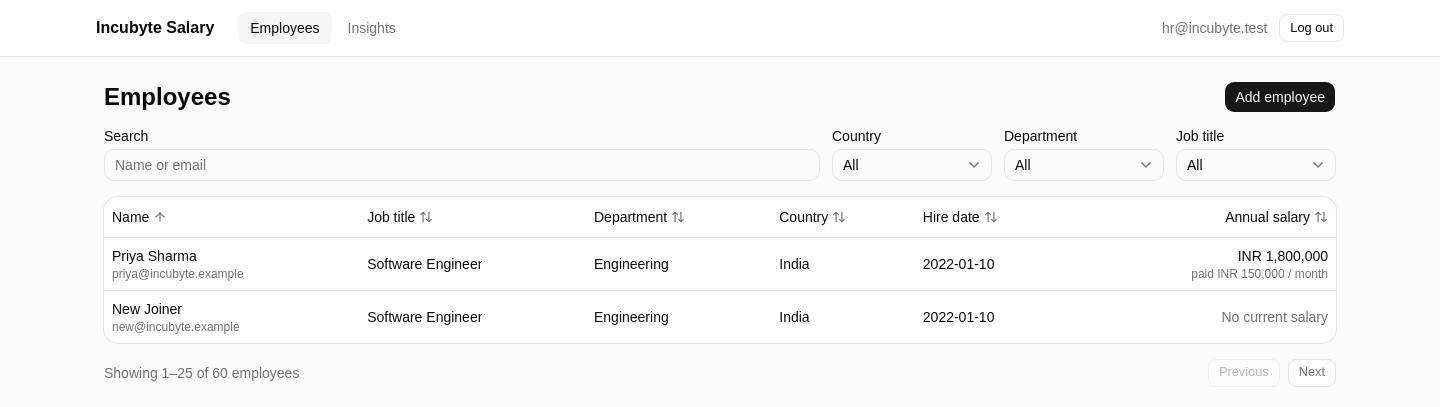
Test: Employees directory › pages through results
Expected: the link "Priya Sharma" is shown, [112, 248, 197, 264]
Expected: the button with aria-label "Previous page" is disabled, [1208, 358, 1280, 386]
Click the button with aria-label "Next page" at {"x": 1312, "y": 372}, box [1288, 358, 1336, 386]
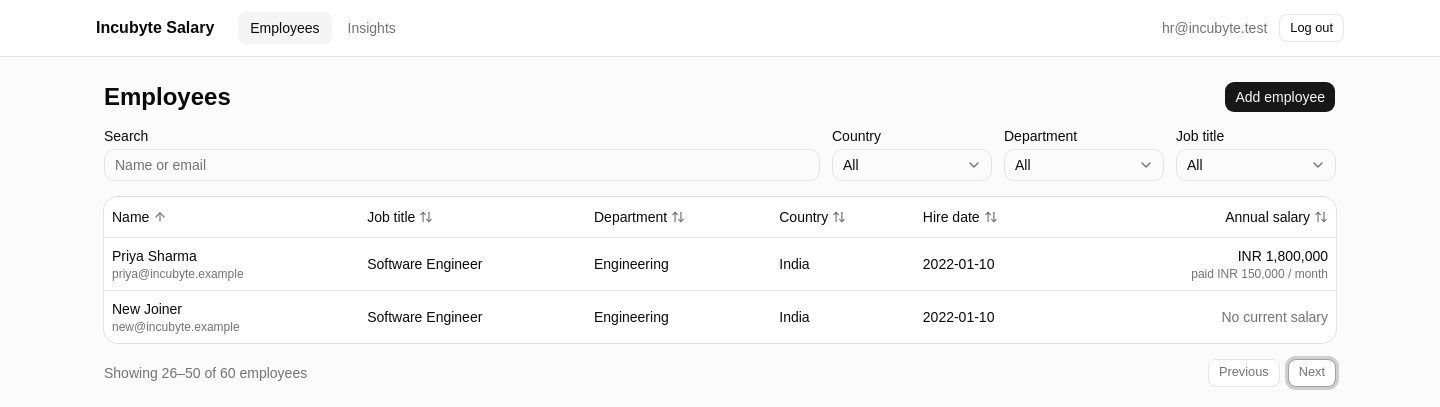
Expected: the text "Showing 26–50 of 60 employees" is shown, [104, 362, 307, 382]
